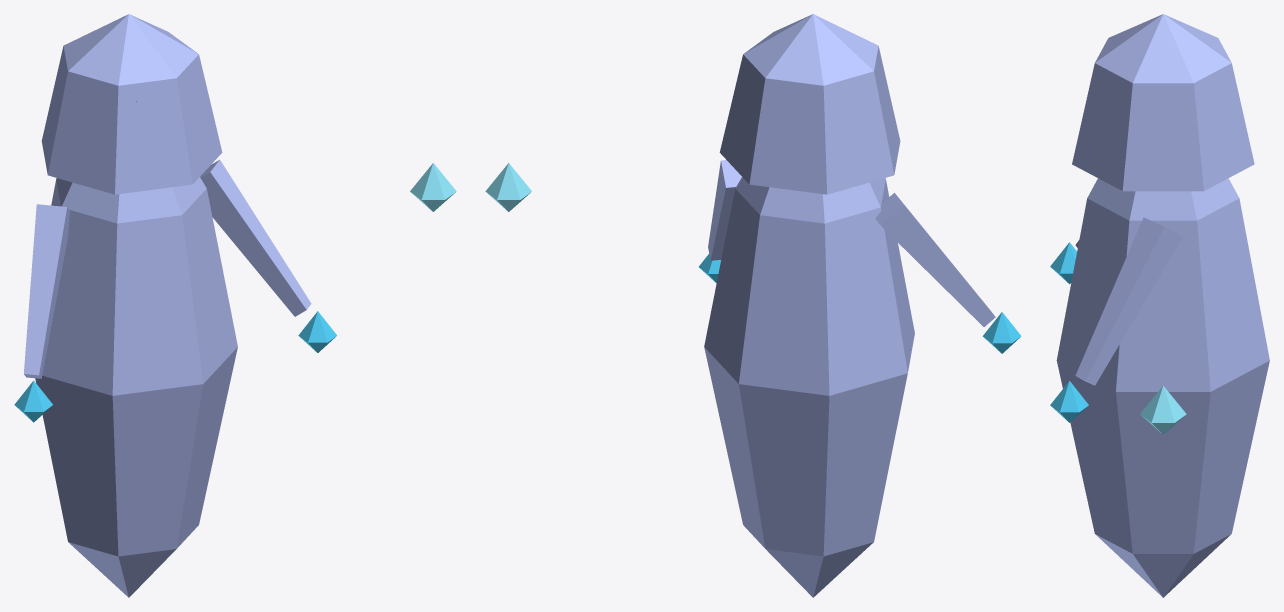
File: EcoLuminoso.fbx
3 views of the same model, side by side, from view 1: azimuth 30°, elevation 25°; view 2: azimuth 150°, elevation 25°; view 3: azimuth 270°, elevation 25° (orthographic).
Parts seen in each view (by area): view 1: Body, ArmL, ArmR, Orb0; view 2: Body, ArmR, ArmL, Orb0; view 3: Body, ArmL, Orb0, ArmR.
Part boxes in pixels (x1,y1,x2,y2): Body: [35, 14, 237, 597]; ArmL: [200, 159, 336, 352]; ArmR: [14, 204, 69, 422]; Orb0: [410, 163, 456, 211]; Body: [704, 14, 914, 597]; ArmR: [875, 193, 1021, 353]; ArmL: [699, 160, 741, 282]; Orb0: [485, 163, 531, 211]; Body: [1056, 14, 1269, 597]; ArmL: [1050, 217, 1182, 422]; Orb0: [1140, 385, 1186, 434]; ArmR: [1050, 240, 1079, 284].
Bounding box in the file's own units: 1.56 × 1.81 × 0.6193.
